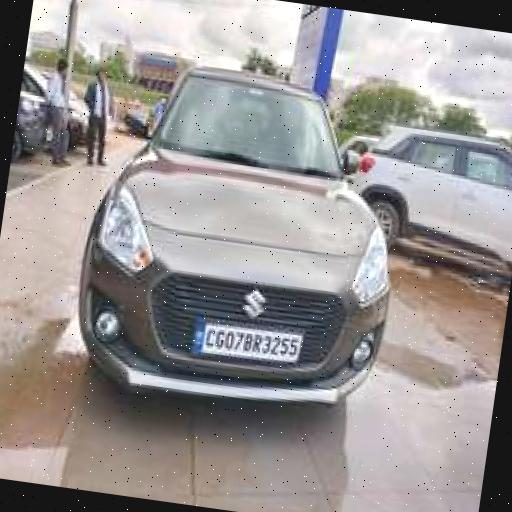license_plate`: (190, 316, 301, 361)
